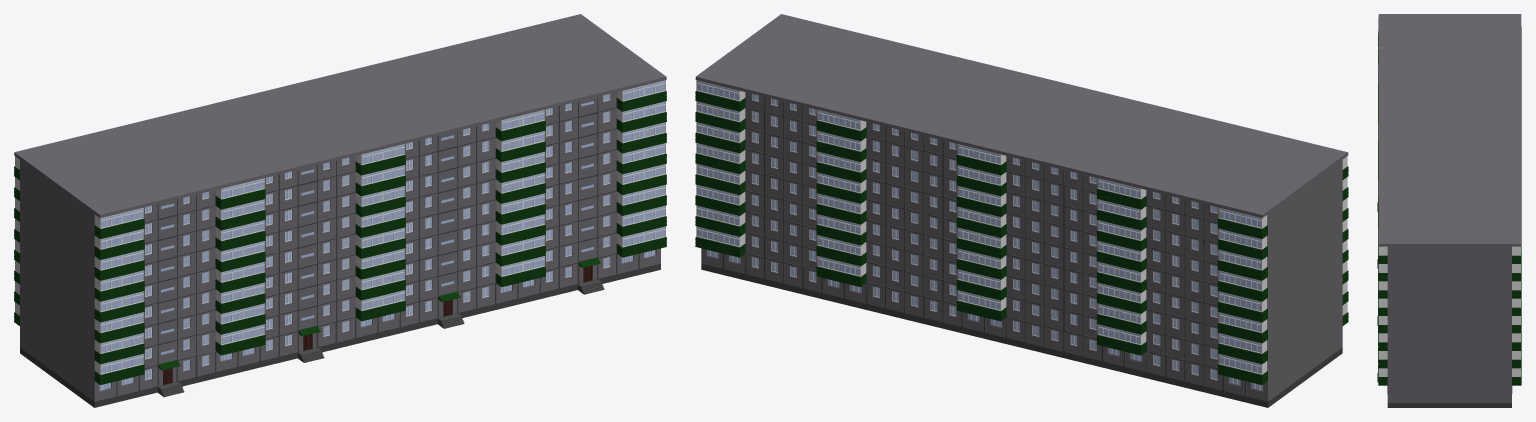
File: 9etaj dom.fbx
3 renders of one model, left to right at view 1: azimuth 30°, elevation 25°; view 2: azimuth 150°, elevation 25°; view 3: azimuth 270°, elevation 25°, orthographic. The views are drawn at different scales.
Visible parts, largest first — view 1: Plane.011; view 2: Plane.011; view 3: Plane.011.
Part boxes in pixels (x1,y1,x2,y2): Plane.011: (14,14,666,407); Plane.011: (695,14,1348,407); Plane.011: (1377,14,1521,407).
Bounding box in the file's own units: 16990 × 5643 × 4514.
